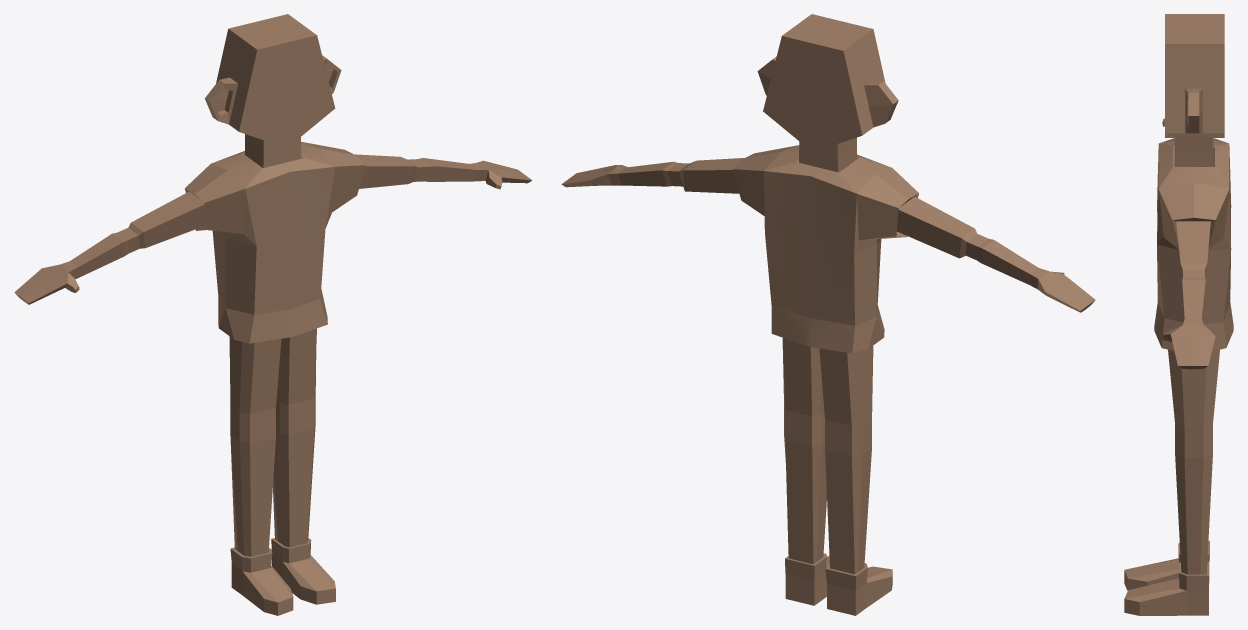
The model's file is LowPolyMale.fbx.
3 views of the same model, side by side, from view 1: azimuth 30°, elevation 25°; view 2: azimuth 150°, elevation 25°; view 3: azimuth 270°, elevation 25° (orthographic). The views are drawn at different scales.
Visible parts, largest first — view 1: MaleBody; view 2: MaleBody; view 3: MaleBody.
Boxes of the visible parts, x1,y1,x2,y2 form: MaleBody: (14,14,532,615); MaleBody: (561,14,1095,615); MaleBody: (1124,14,1233,615).
Size of the model in its own units: 49.75 by 52.17 by 9.08.
